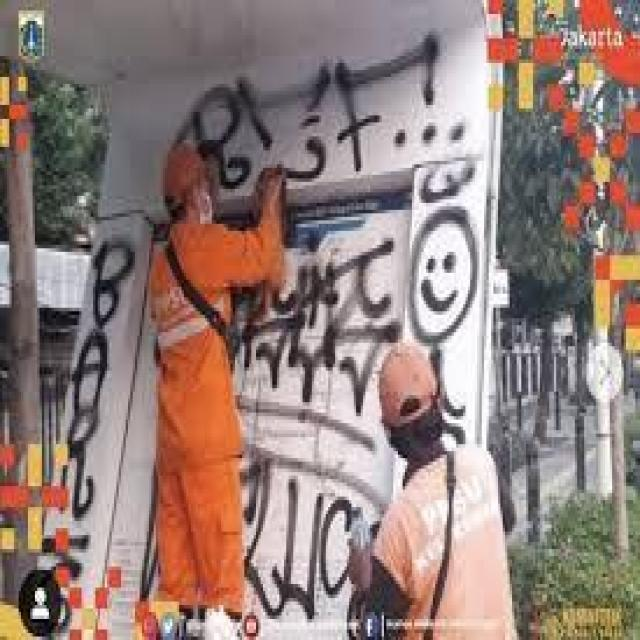nonspitting: (168, 32, 468, 192), (219, 234, 403, 454), (242, 451, 388, 621), (60, 234, 135, 518), (412, 150, 474, 441)
